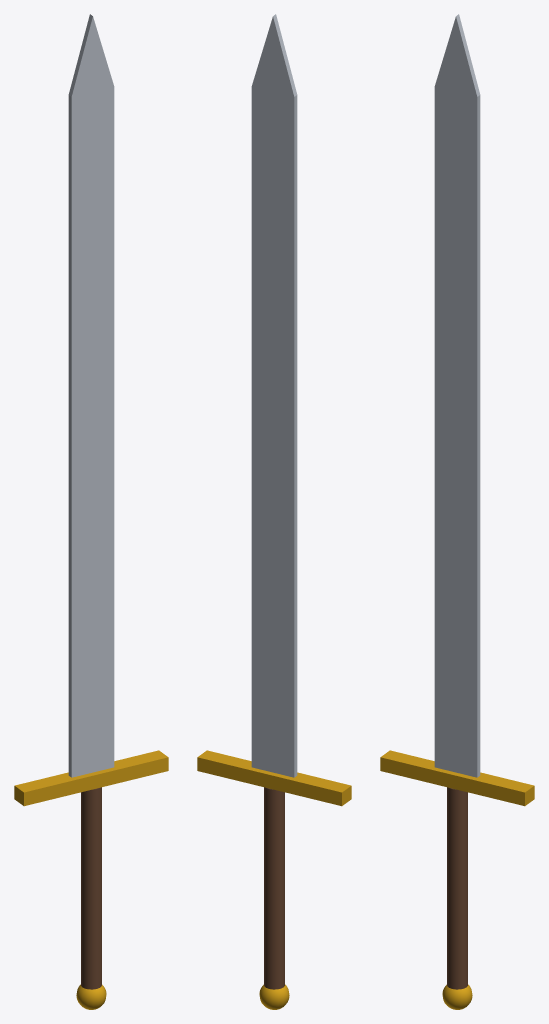
The model's file is sword2.glb.
3 views of the same model, side by side, from view 1: azimuth 30°, elevation 25°; view 2: azimuth 150°, elevation 25°; view 3: azimuth 330°, elevation 25° (orthographic).
Parts seen in each view (by area): view 1: plate, cyl, box, sph; view 2: plate, cyl, box, sph; view 3: plate, cyl, box, sph.
Boxes of the visible parts, <box> form: plate: <box>68,14,114,777</box>; cyl: <box>81,787,101,989</box>; box: <box>14,750,168,806</box>; sph: <box>76,984,106,1009</box>; plate: <box>251,14,297,777</box>; cyl: <box>264,787,284,989</box>; box: <box>197,750,351,806</box>; sph: <box>259,984,289,1009</box>; plate: <box>434,14,480,777</box>; cyl: <box>447,787,467,989</box>; box: <box>380,750,534,806</box>; sph: <box>442,984,472,1009</box>.
Size of the model in its own units: 0.22 by 1.44 by 0.04.
